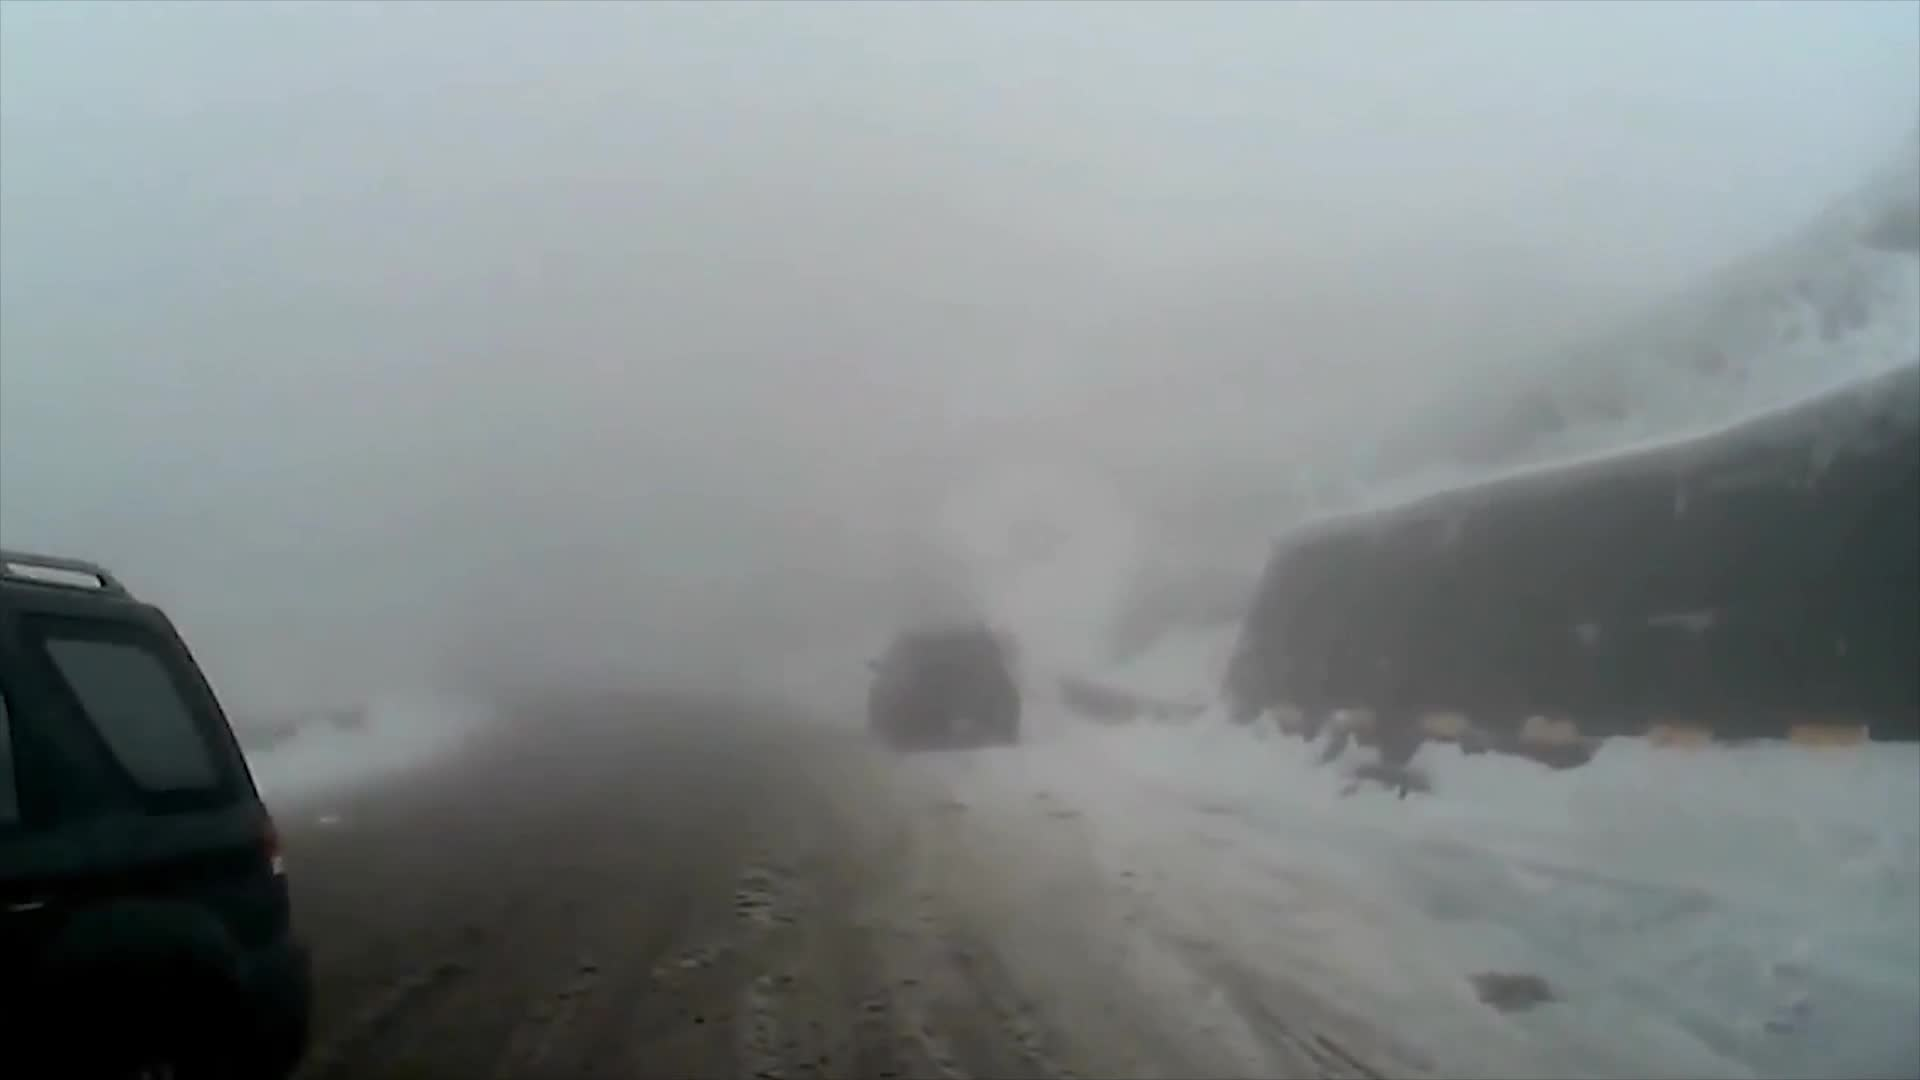vehicle: (0, 549, 306, 1073), (864, 618, 1021, 752)
